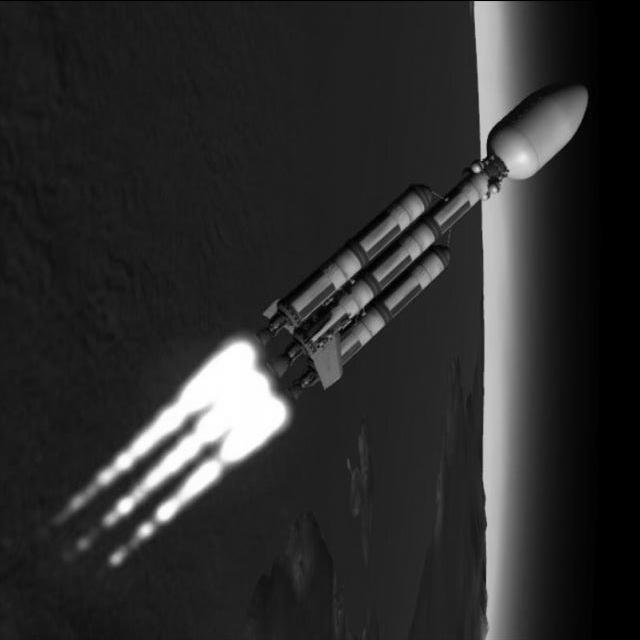missile: (242, 160, 453, 358), (492, 59, 600, 184)
